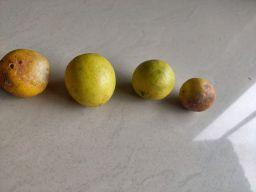lemon: (63, 52, 118, 108), (0, 49, 51, 98), (131, 57, 176, 101), (178, 77, 216, 113)
